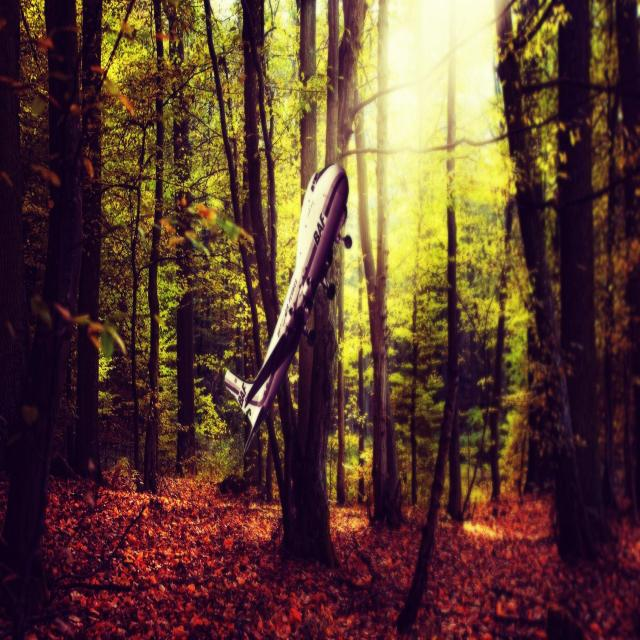airplane: (224, 161, 352, 455)
